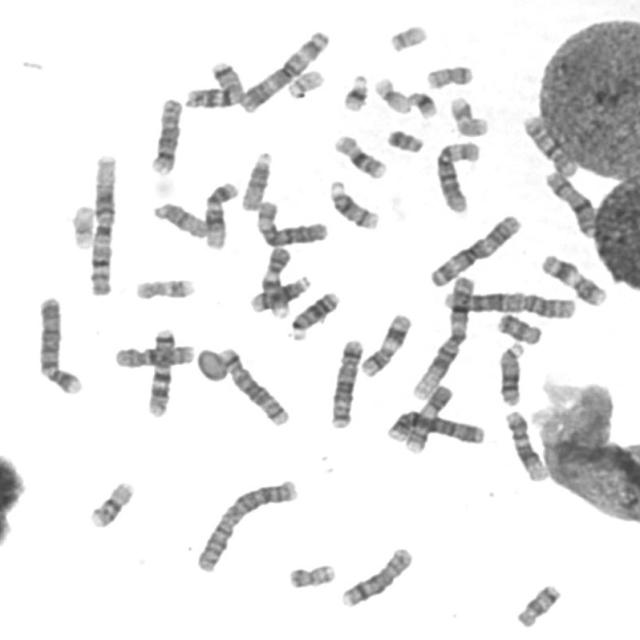A1: (407, 269, 477, 401), (85, 148, 120, 298)
A2: (190, 474, 301, 575), (438, 284, 578, 320)
A3: (236, 25, 331, 114), (424, 210, 524, 288)
B4: (32, 292, 84, 396), (382, 406, 486, 446)
B5: (215, 342, 291, 428), (325, 334, 365, 430)
C10: (518, 110, 580, 179), (110, 340, 196, 370)
C11: (536, 249, 610, 309), (355, 308, 413, 379)
C12: (500, 406, 550, 482), (199, 176, 240, 250)
C6: (250, 196, 330, 248), (430, 136, 482, 214)
C7: (179, 57, 246, 110), (142, 322, 178, 418)
C8: (335, 542, 415, 610), (145, 93, 185, 177)
C9: (400, 381, 456, 455), (256, 243, 293, 319)
D13: (286, 286, 342, 342), (494, 338, 526, 408)
D14: (324, 176, 382, 231), (245, 270, 313, 314)
D15: (148, 197, 210, 240), (236, 146, 274, 212)
E16: (329, 130, 389, 180), (85, 476, 136, 530)
E17: (445, 92, 491, 138), (130, 274, 196, 302)
E18: (511, 580, 563, 630), (492, 308, 544, 346)
F19: (369, 72, 413, 116), (65, 199, 97, 251)
F20: (283, 559, 338, 590), (421, 60, 476, 90)
G21: (338, 70, 371, 113), (402, 86, 438, 120)
G22: (282, 64, 326, 99), (385, 20, 430, 54)
X: (541, 166, 599, 238)
Y: (382, 124, 426, 155)
